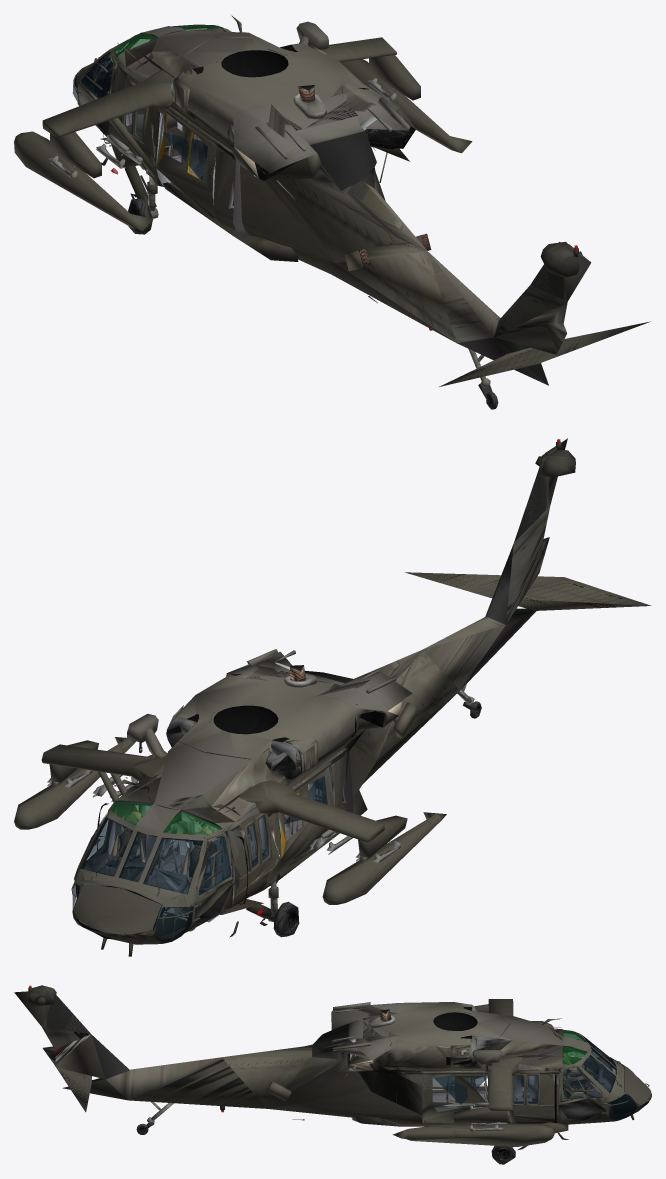
File: body_low_poly.obj
3 views of the same model, one above another, from view 1: azimuth 30°, elevation 25°; view 2: azimuth 150°, elevation 25°; view 3: azimuth 270°, elevation 25° (orthographic). The views are drawn at different scales.
Parts seen in each view (by area): view 1: fuselage, Door_L, elevator, cabinDoor_L; view 2: fuselage, elevator, cabinDoor_L, Door_L, pilot, Tyre_L; view 3: fuselage, Door_R, cabinDoor_R, elevator, pilot, Window_R2, window_R1, cabinDoor_L, tyre_R.
Part boxes in pixels (x1,y1,x2,y2): fuselage: [14, 14, 591, 403]; Door_L: [156, 110, 216, 218]; elevator: [439, 321, 650, 386]; cabinDoor_L: [76, 53, 117, 134]; fuselage: [14, 438, 575, 956]; elevator: [405, 572, 651, 610]; cabinDoor_L: [190, 831, 234, 930]; Door_L: [278, 767, 334, 859]; pilot: [111, 814, 215, 917]; Tyre_L: [273, 901, 299, 937]; fuselage: [14, 985, 651, 1150]; Door_R: [422, 1074, 489, 1122]; cabinDoor_R: [558, 1066, 607, 1121]; elevator: [55, 1066, 91, 1112]; pilot: [562, 1052, 598, 1098]; Window_R2: [525, 1073, 539, 1105]; window_R1: [512, 1073, 525, 1105]; cabinDoor_L: [562, 1033, 599, 1079]; tyre_R: [491, 1145, 515, 1164].
Bounding box in the file's own units: 6.75 × 4.23 × 16.01.
Materials: 10 (4 with a texture image).
